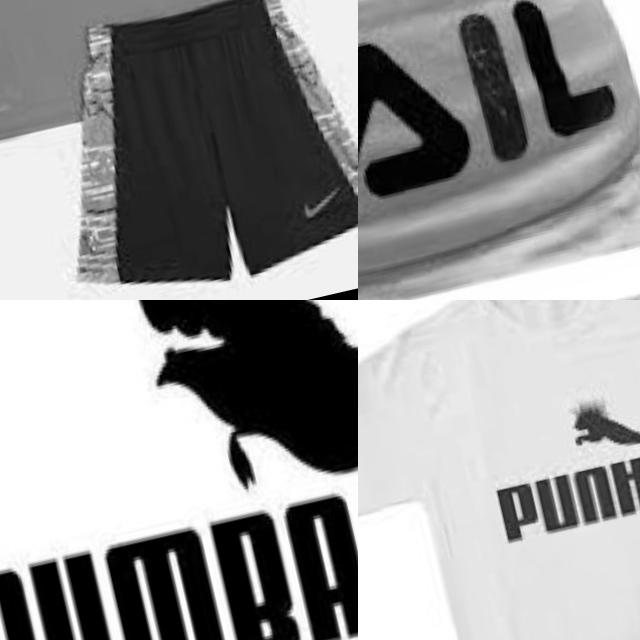FILA_fake: (358, 0, 640, 258)
NIKE_original: (279, 166, 358, 241)
PUMA_fake: (0, 300, 358, 640), (466, 361, 640, 560)
